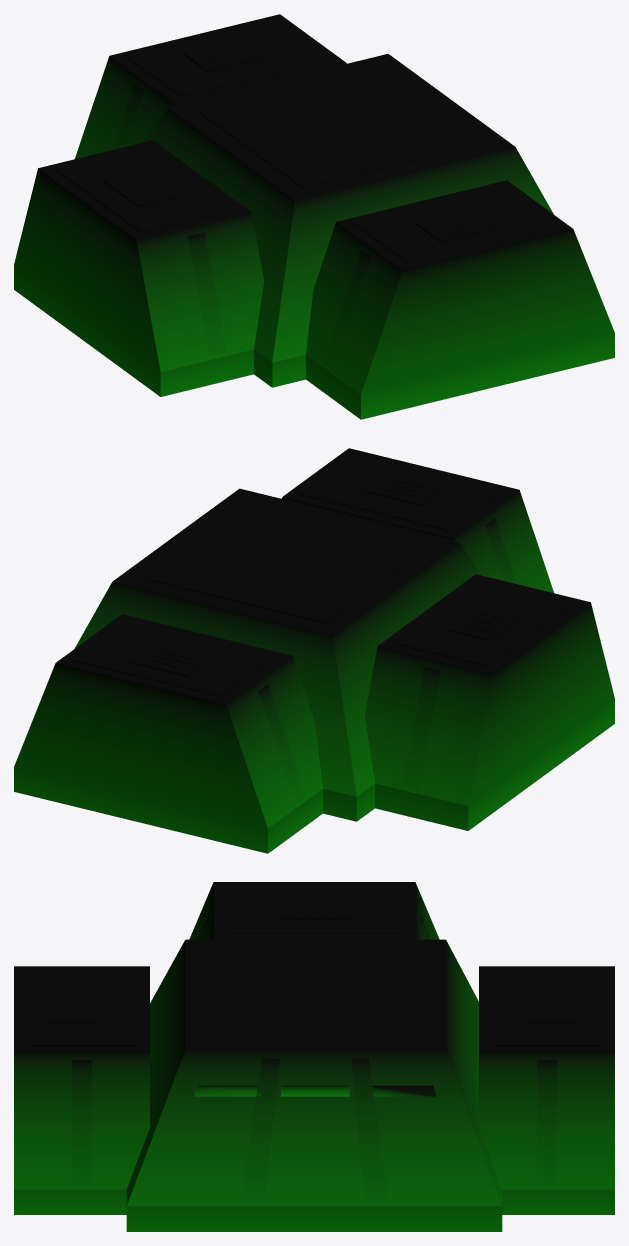
The model's file is hpg_threeway.glb.
3 views of the same model, one above another, from view 1: azimuth 30°, elevation 25°; view 2: azimuth 150°, elevation 25°; view 3: azimuth 270°, elevation 25° (orthographic). The views are drawn at different scales.
Visible parts, largest first — view 1: lod0; view 2: lod0; view 3: lod0.
Boxes of the visible parts, bbox=[...] form: lod0: bbox=[14, 14, 614, 419]; lod0: bbox=[14, 448, 614, 853]; lod0: bbox=[14, 882, 614, 1231].
Size of what is drawn, in the model's own units: 20.92 by 7.46 by 25.6.
